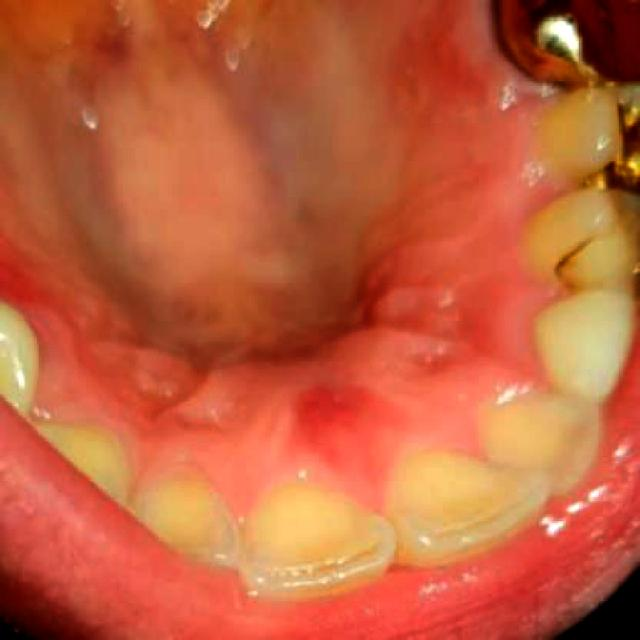Plaque: (554, 230, 616, 280)
